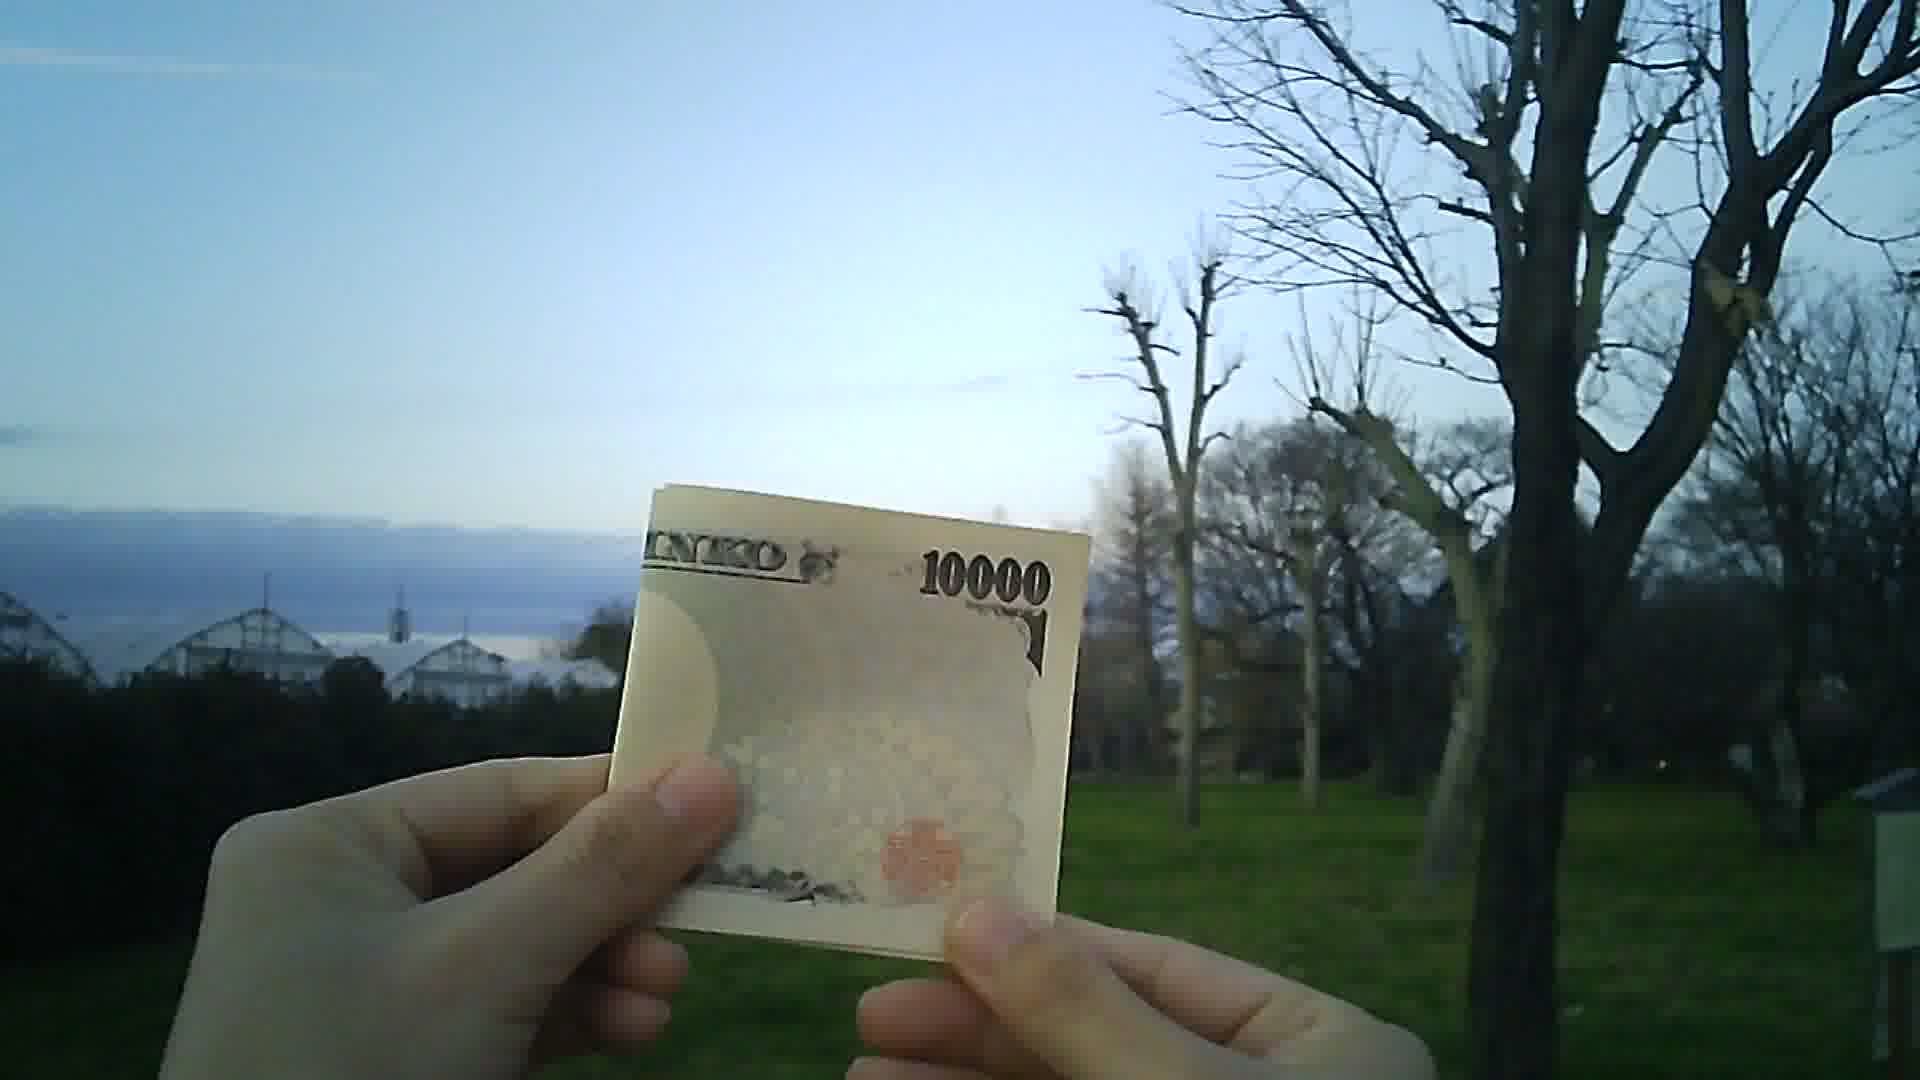10,000 Yen: (597, 439, 1098, 975)
